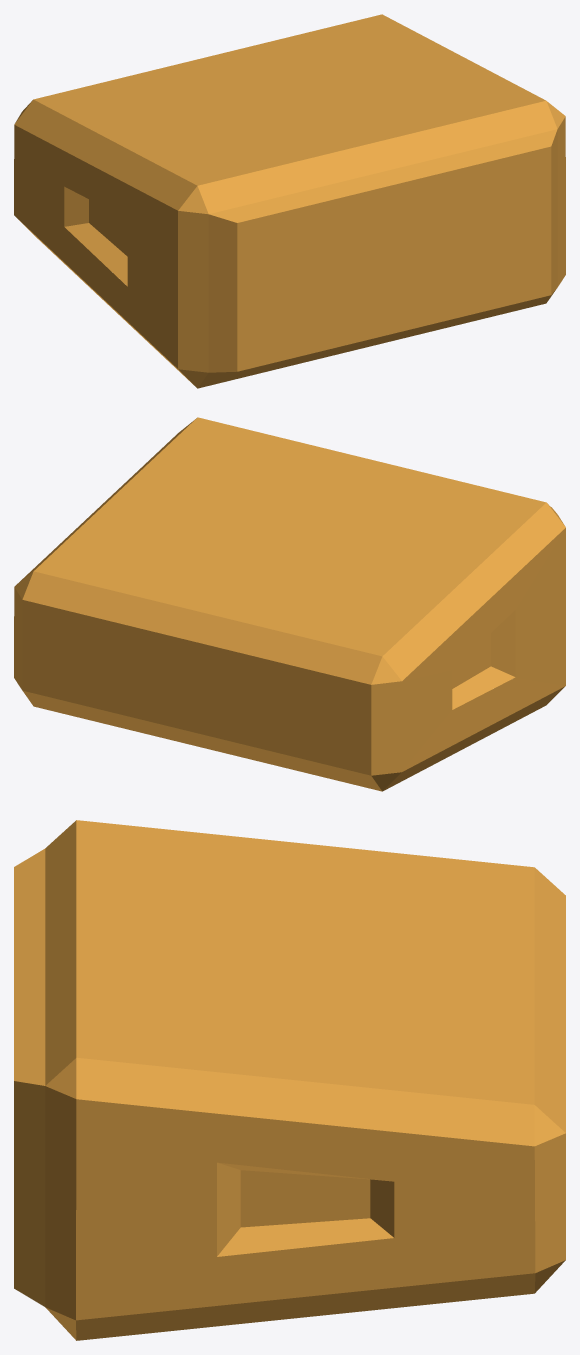
Rendered from music-speaker-array.glb.
3 renders of one model, top to bottom at view 1: azimuth 30°, elevation 25°; view 2: azimuth 150°, elevation 25°; view 3: azimuth 270°, elevation 25°, orthographic. The views are drawn at different scales.
Visible parts, largest first — view 1: speaker-array; view 2: speaker-array; view 3: speaker-array.
Boxes of the visible parts, x1=… form: speaker-array: x1=14, y1=14, x2=565, y2=388; speaker-array: x1=14, y1=417, x2=565, y2=791; speaker-array: x1=14, y1=820, x2=565, y2=1340.
Size of the model in its own units: 0.5998 by 0.3 by 0.53.
